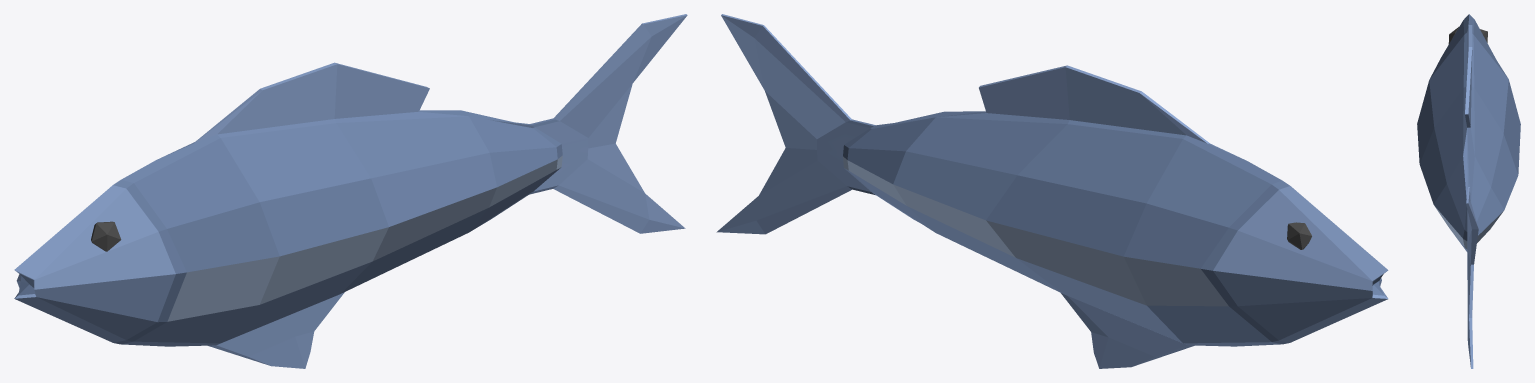
File: Fish_01.fbx
3 views of the same model, side by side, from view 1: azimuth 30°, elevation 25°; view 2: azimuth 150°, elevation 25°; view 3: azimuth 270°, elevation 25° (orthographic). The views are drawn at different scales.
Parts seen in each view (by area): view 1: Fish_01_LOD0; view 2: Fish_01_LOD0; view 3: Fish_01_LOD0.
Part boxes in pixels (box(x1,y1,x2,y2)): Fish_01_LOD0: box(14, 14, 687, 368); Fish_01_LOD0: box(716, 14, 1388, 368); Fish_01_LOD0: box(1417, 14, 1520, 368).
Size of what is drawn, in the model's own units: 0.3733 by 0.1572 by 0.0653.
